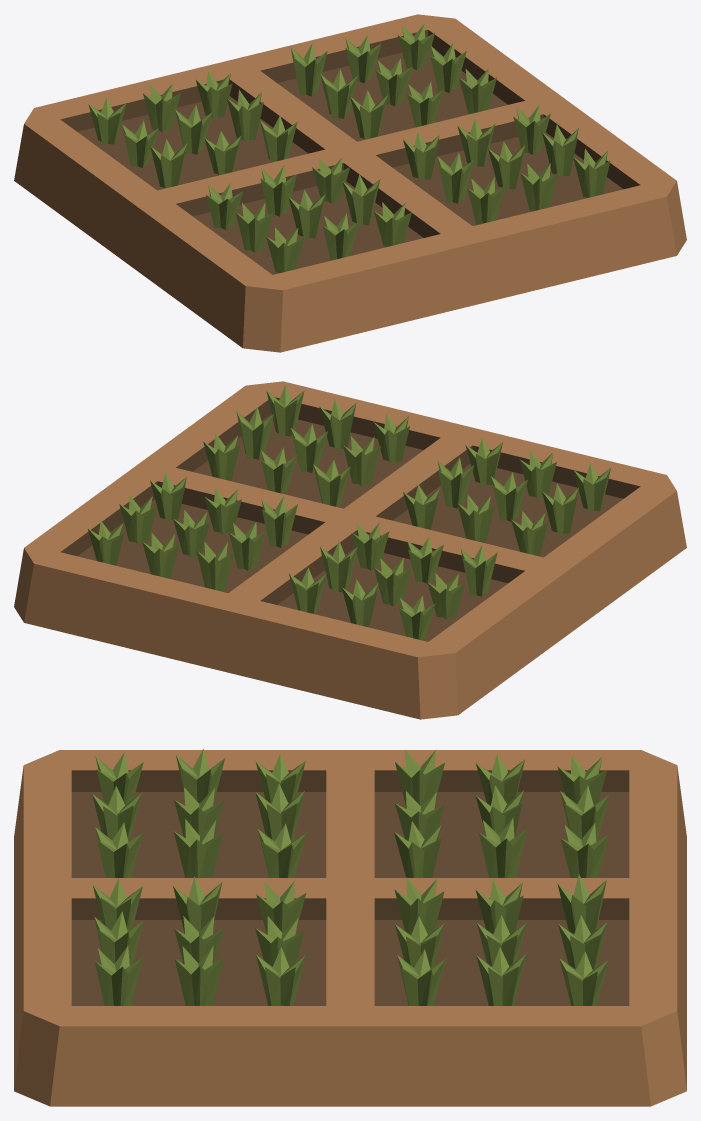
Rendered from KANJI_19_TA.fbx.
3 views of the same model, one above another, from view 1: azimuth 30°, elevation 25°; view 2: azimuth 150°, elevation 25°; view 3: azimuth 270°, elevation 25° (orthographic). The views are drawn at different scales.
Parts seen in each view (by area): view 1: SM_KANJI_19_Ta; view 2: SM_KANJI_19_Ta; view 3: SM_KANJI_19_Ta.
Boxes of the visible parts, bbox=[...] form: SM_KANJI_19_Ta: bbox=[14, 14, 686, 352]; SM_KANJI_19_Ta: bbox=[14, 381, 686, 719]; SM_KANJI_19_Ta: bbox=[14, 749, 686, 1106].
Bounding box in the file's own units: 0.28 × 0.05 × 0.28.
